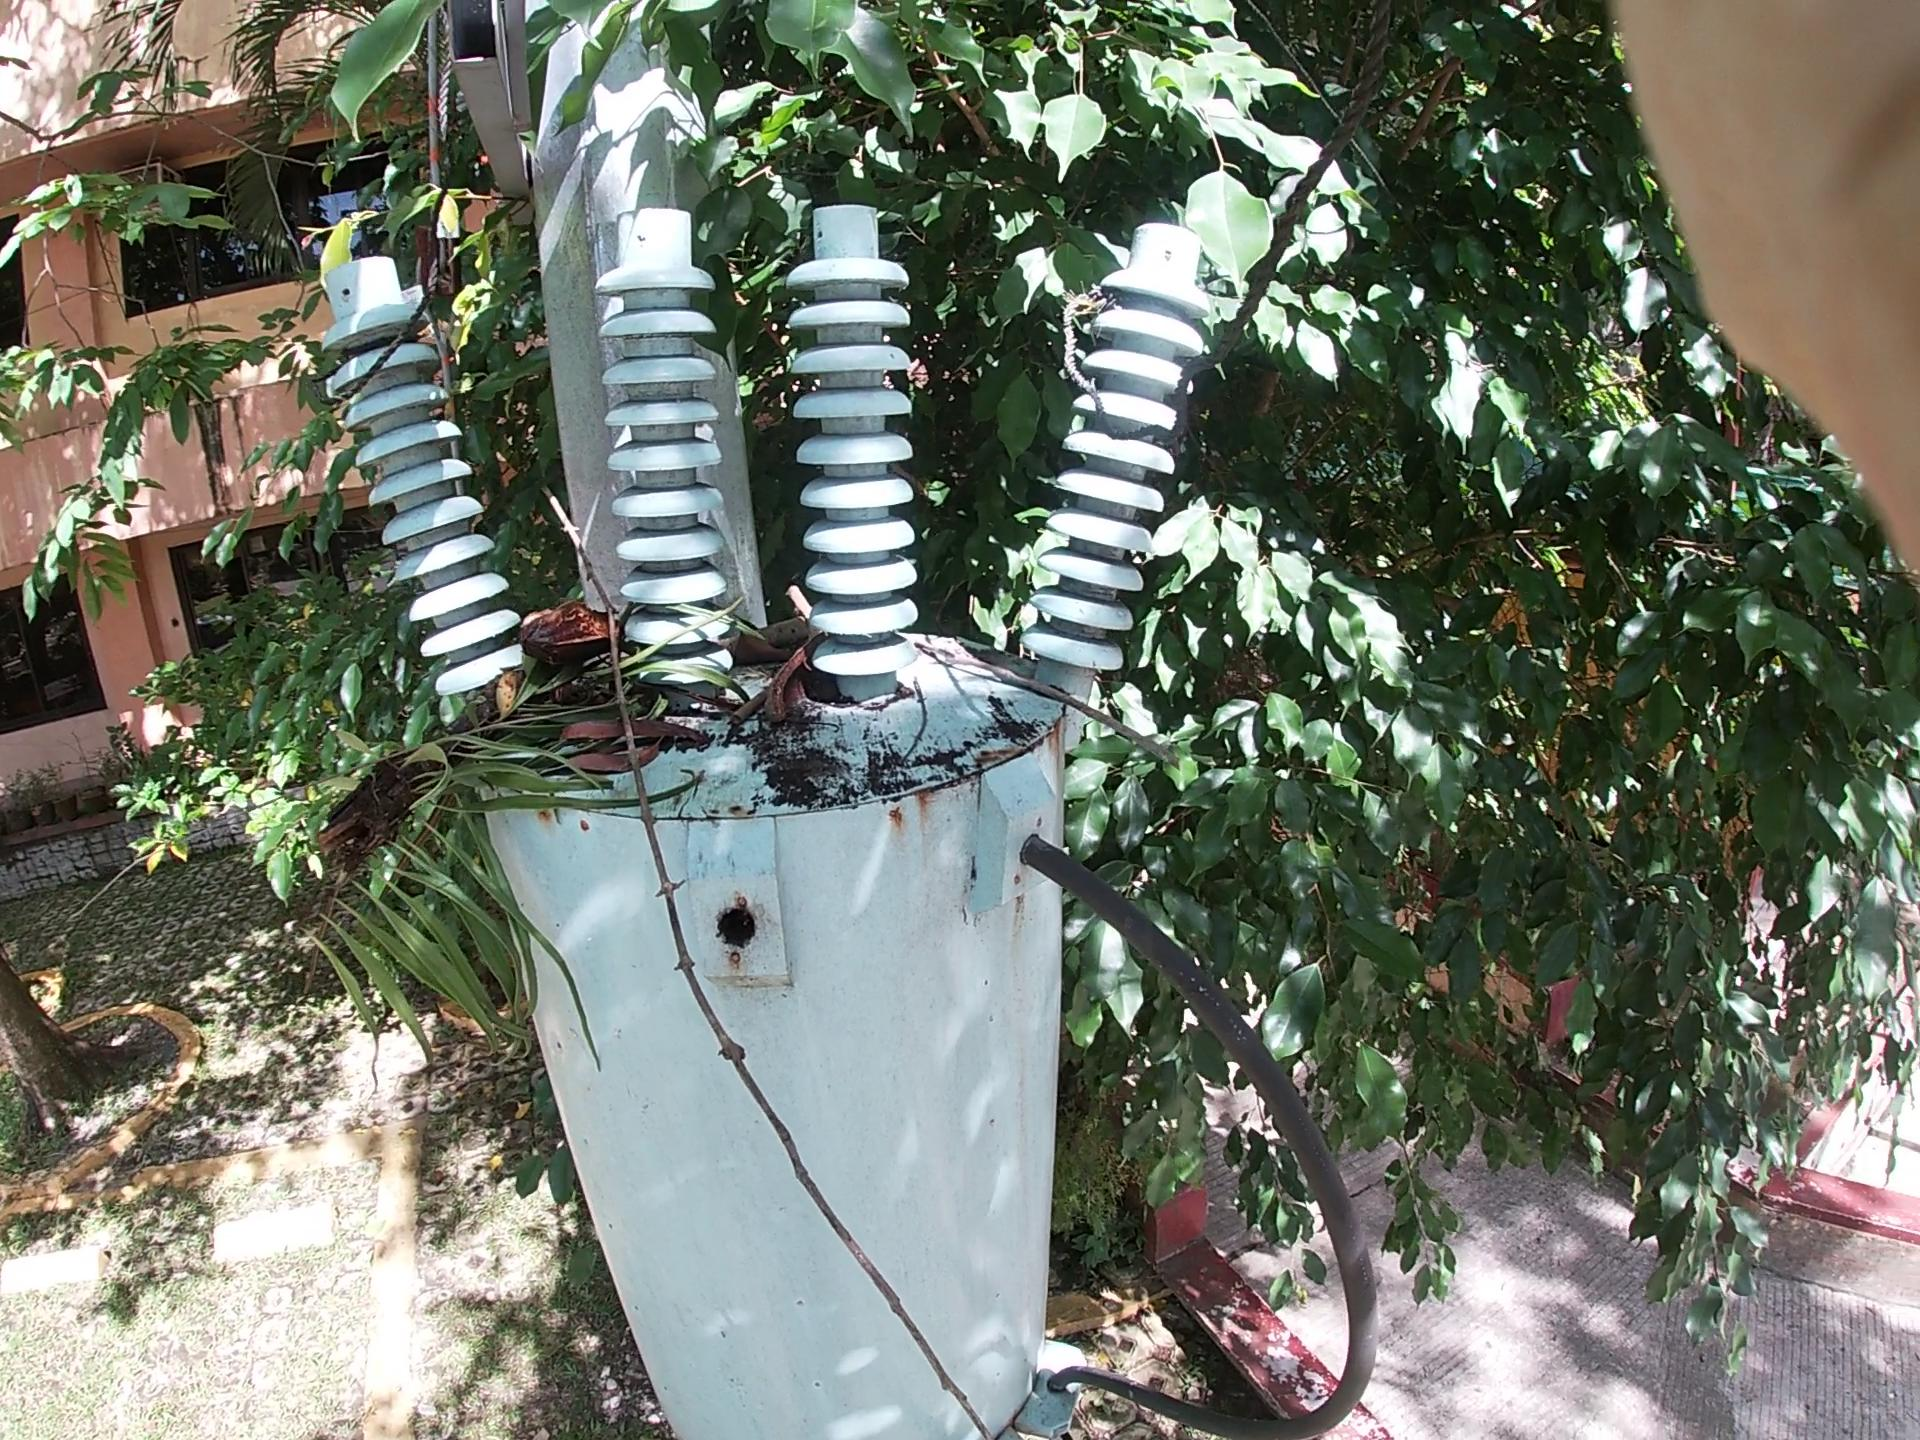branch with leaves: (283, 457, 726, 1051)
leaf: (499, 2, 1075, 469)
mahogany fruit: (508, 579, 643, 681), (735, 632, 822, 774)
tree branch: (472, 498, 1057, 1293), (906, 575, 1256, 765), (692, 641, 810, 784)
